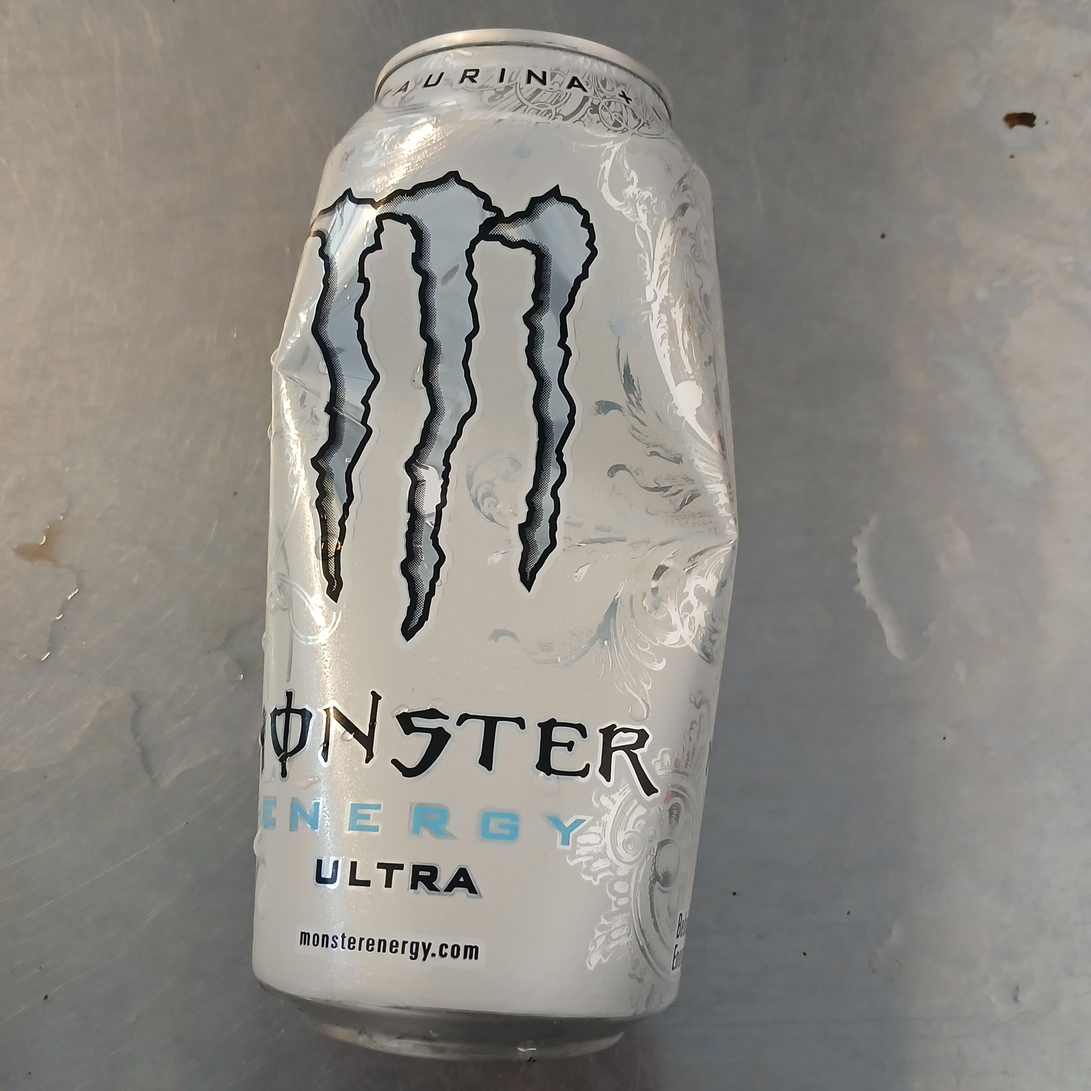Metal: (248, 32, 740, 1065)
